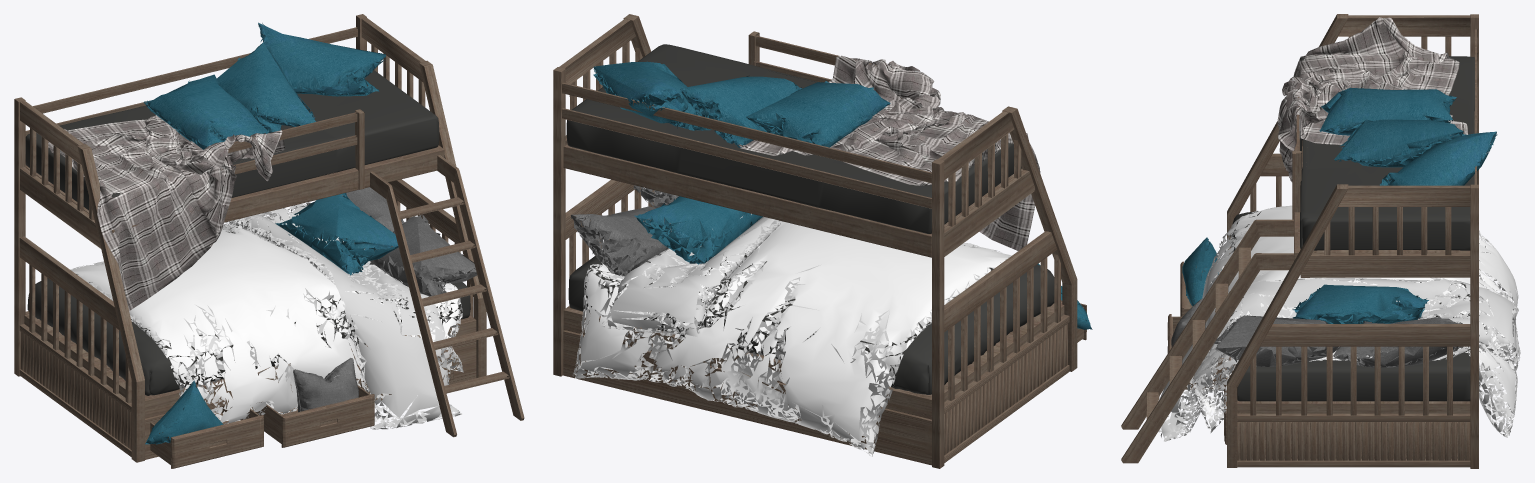
The model's file is bunk-bed.glb.
3 views of the same model, side by side, from view 1: azimuth 30°, elevation 25°; view 2: azimuth 150°, elevation 25°; view 3: azimuth 270°, elevation 25° (orthographic). The views are drawn at different scales.
Parts seen in each view (by area): view 1: Mesh10_Bage_Ceramic10_0, Mesh69_Aqua_Ceramic_0, Mesh87_Blue_Purple_Ceramic_0, Mesh68_Blue_Black_Ceramic_0, Mesh27_Baby_Blue_Ceramic1_0, Mesh28_Bed_Children_5_0, Mesh1_Bright_Green_Ceramic_0; view 2: Mesh10_Bage_Ceramic10_0, Mesh69_Aqua_Ceramic_0, Mesh27_Baby_Blue_Ceramic1_0, Mesh87_Blue_Purple_Ceramic_0, Mesh28_Bed_Children_5_0, Mesh68_Blue_Black_Ceramic_0, Mesh1_Bright_Green_Ceramic_0; view 3: Mesh10_Bage_Ceramic10_0, Mesh27_Baby_Blue_Ceramic1_0, Mesh87_Blue_Purple_Ceramic_0, Mesh68_Blue_Black_Ceramic_0, Mesh28_Bed_Children_5_0, Mesh69_Aqua_Ceramic_0, Mesh1_Bright_Green_Ceramic_0.
Boxes of the visible parts, <box> form: Mesh10_Bage_Ceramic10_0: <box>14,14,524,468</box>; Mesh69_Aqua_Ceramic_0: <box>70,212,462,424</box>; Mesh87_Blue_Purple_Ceramic_0: <box>143,22,398,444</box>; Mesh68_Blue_Black_Ceramic_0: <box>48,115,285,310</box>; Mesh27_Baby_Blue_Ceramic1_0: <box>25,70,470,395</box>; Mesh28_Bed_Children_5_0: <box>76,203,463,429</box>; Mesh1_Bright_Green_Ceramic_0: <box>293,187,477,412</box>; Mesh10_Bage_Ceramic10_0: <box>553,14,1086,468</box>; Mesh69_Aqua_Ceramic_0: <box>572,213,1011,456</box>; Mesh27_Baby_Blue_Ceramic1_0: <box>566,44,1054,394</box>; Mesh87_Blue_Purple_Ceramic_0: <box>593,61,1092,329</box>; Mesh28_Bed_Children_5_0: <box>574,214,1009,454</box>; Mesh68_Blue_Black_Ceramic_0: <box>739,55,1040,250</box>; Mesh1_Bright_Green_Ceramic_0: <box>571,185,678,276</box>; Mesh10_Bage_Ceramic10_0: <box>1121,14,1478,468</box>; Mesh27_Baby_Blue_Ceramic1_0: <box>1227,56,1484,401</box>; Mesh87_Blue_Purple_Ceramic_0: <box>1182,87,1497,323</box>; Mesh68_Blue_Black_Ceramic_0: <box>1277,17,1468,182</box>; Mesh28_Bed_Children_5_0: <box>1158,213,1518,441</box>; Mesh69_Aqua_Ceramic_0: <box>1193,205,1520,436</box>; Mesh1_Bright_Green_Ceramic_0: <box>1171,298,1463,367</box>.
Size of the model in its own units: 2.21 by 1.7 by 2.12.
Materials: 8 (4 with a texture image).
